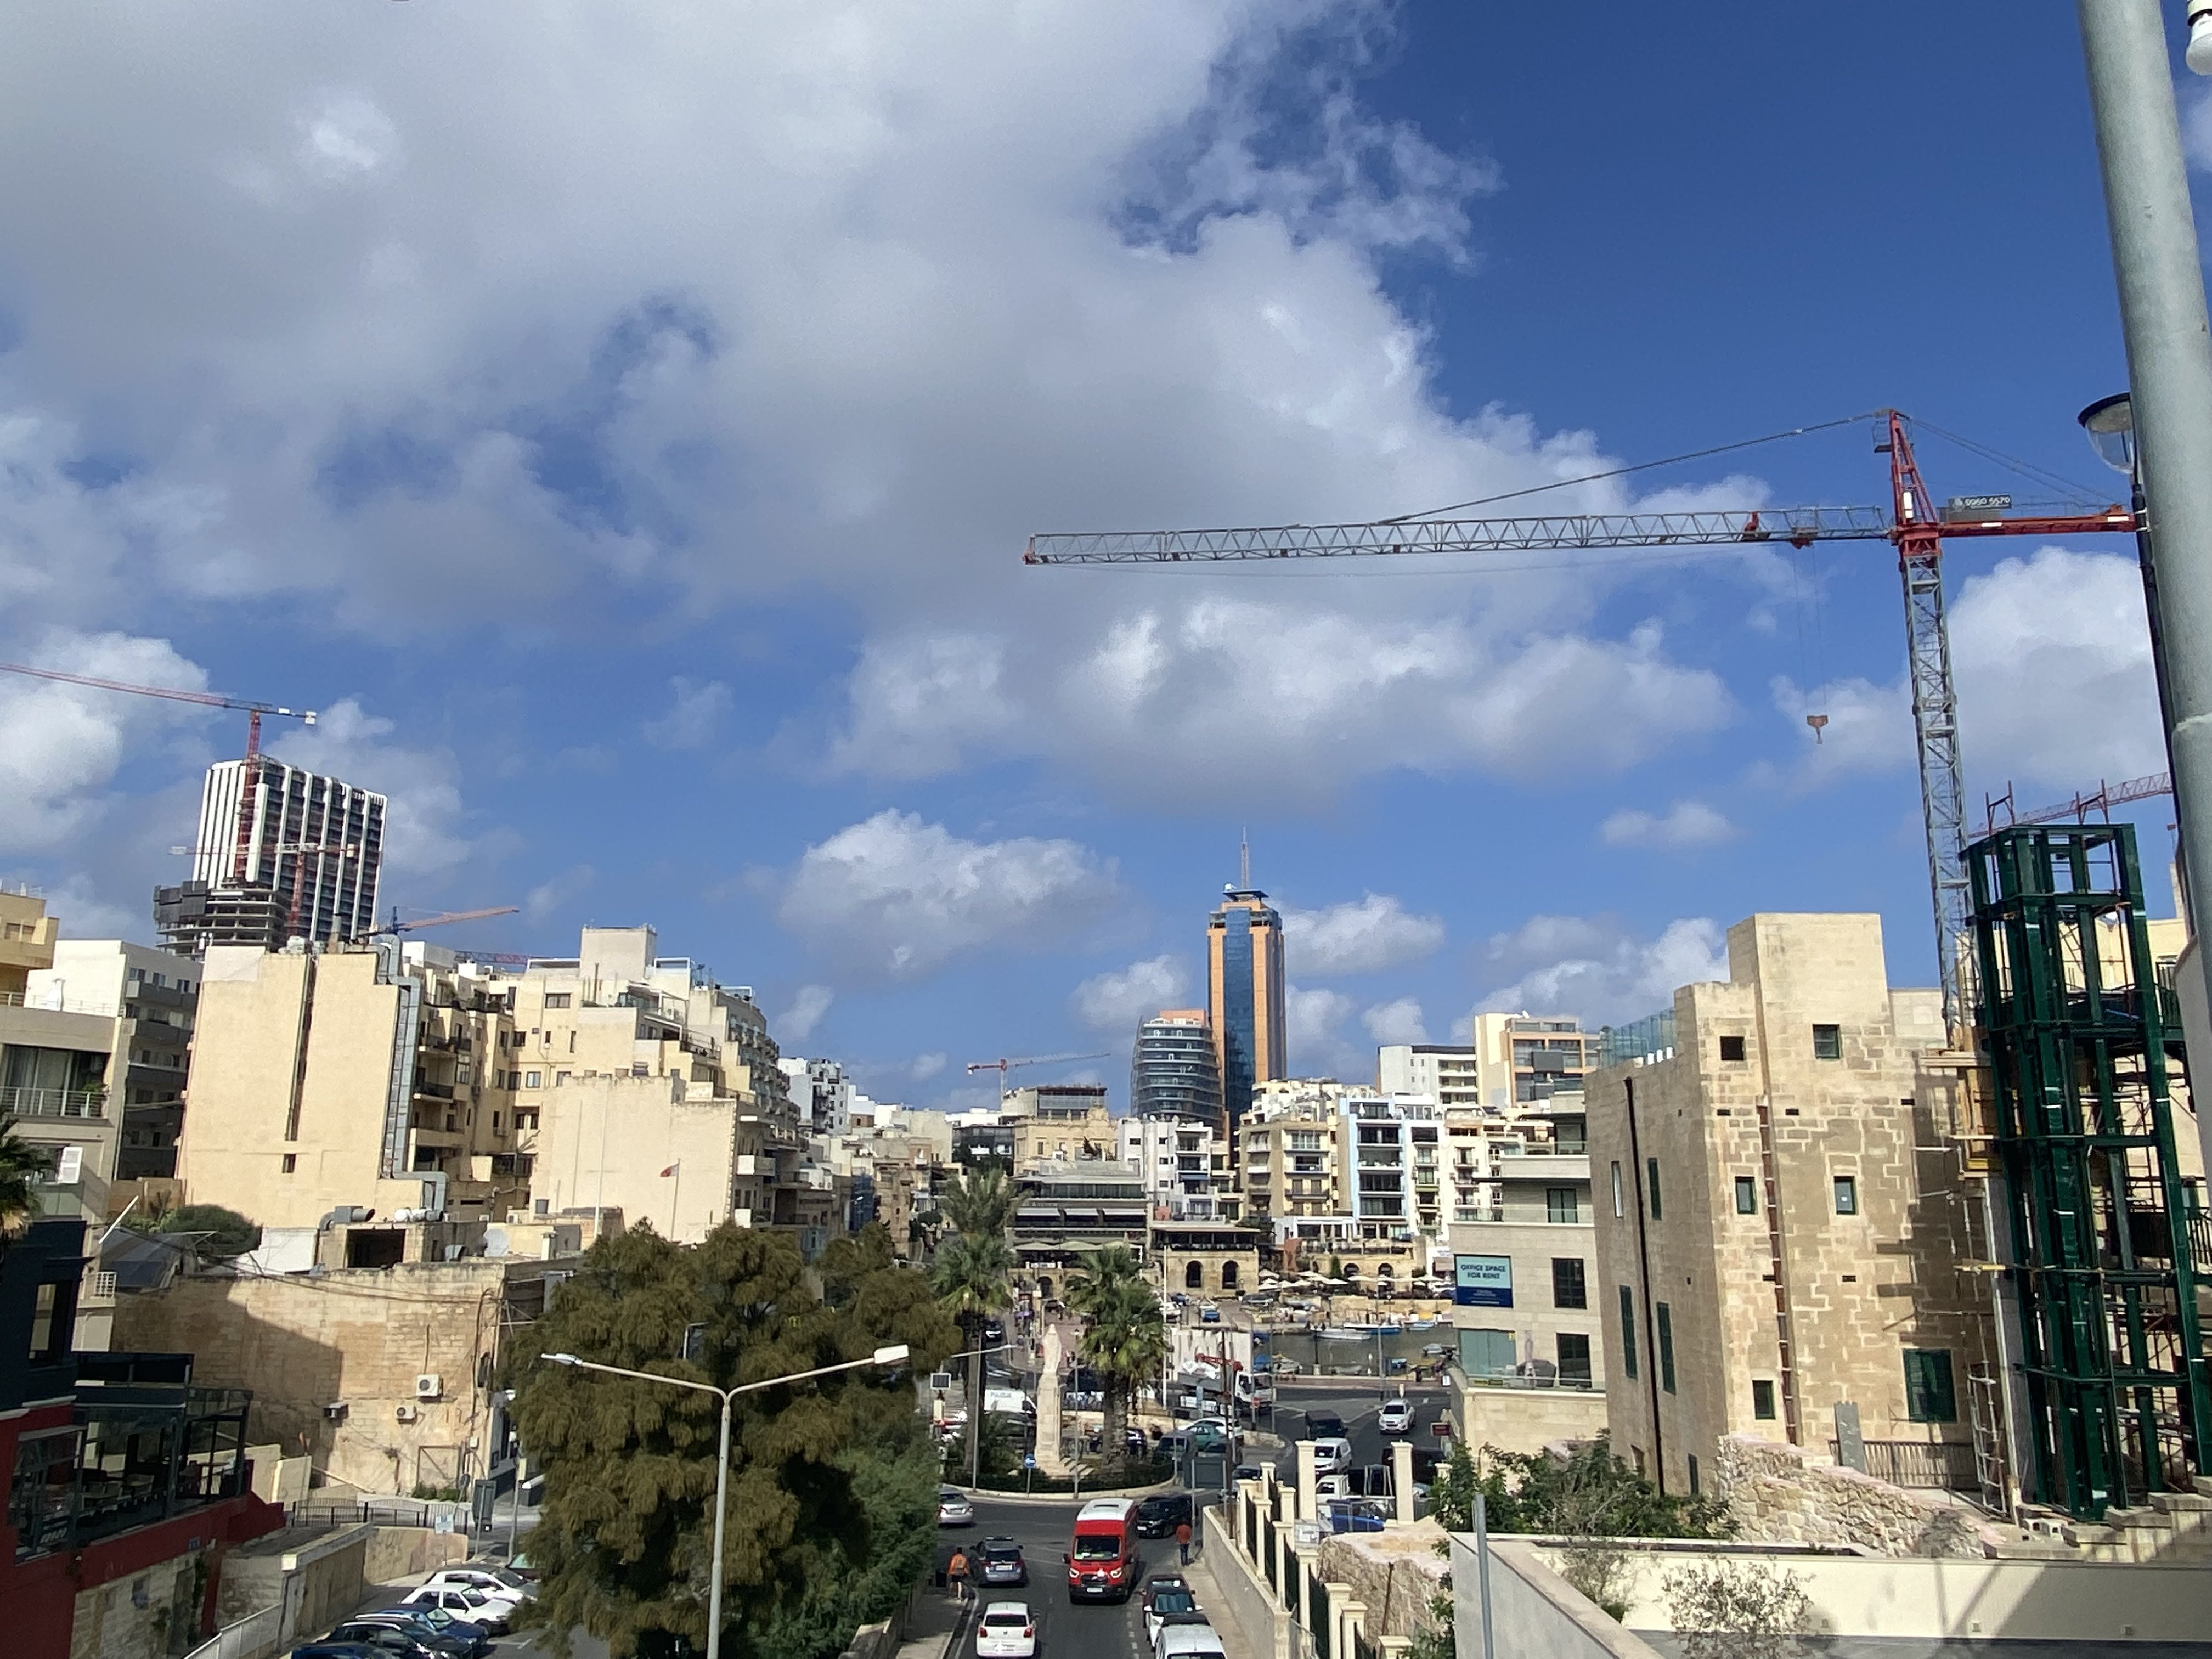crane: (941, 393, 2133, 657)
